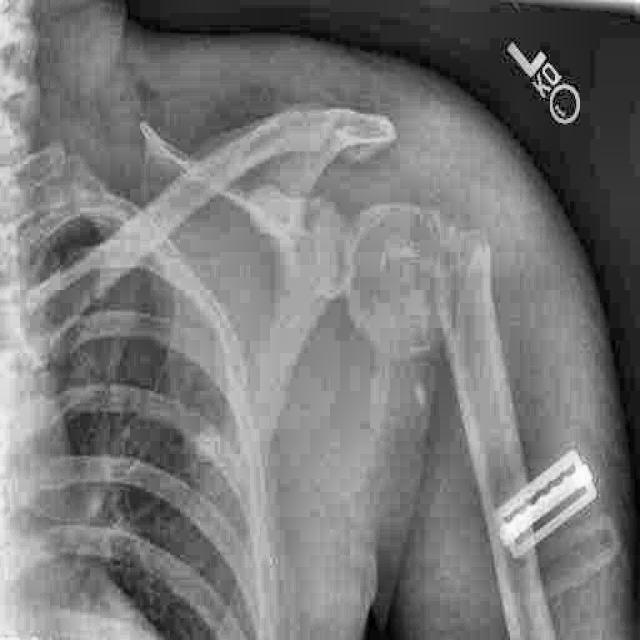shoulder fracture: (407, 176, 515, 339)
